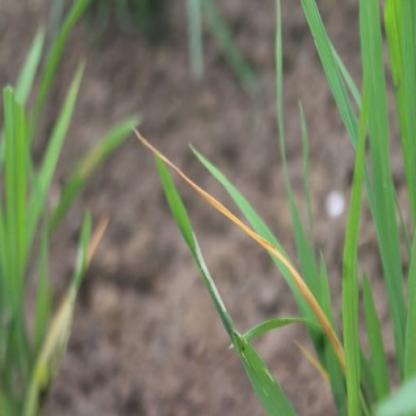Tungro: (132, 125, 350, 331)
